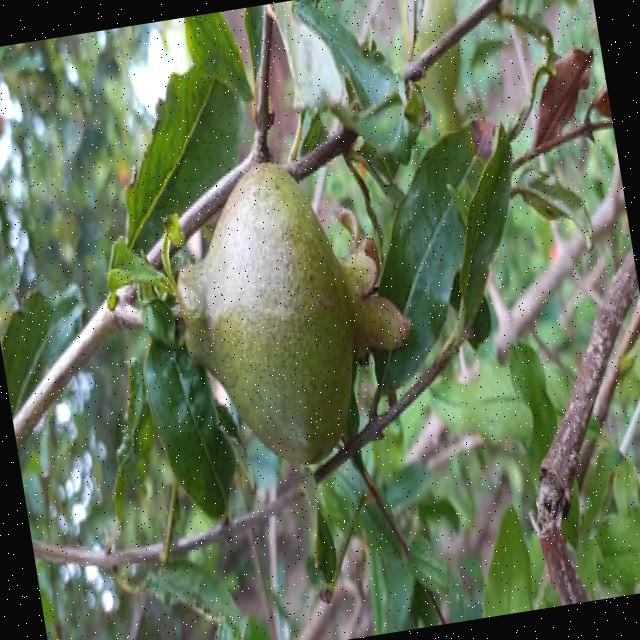Unripe: (157, 150, 426, 490)
